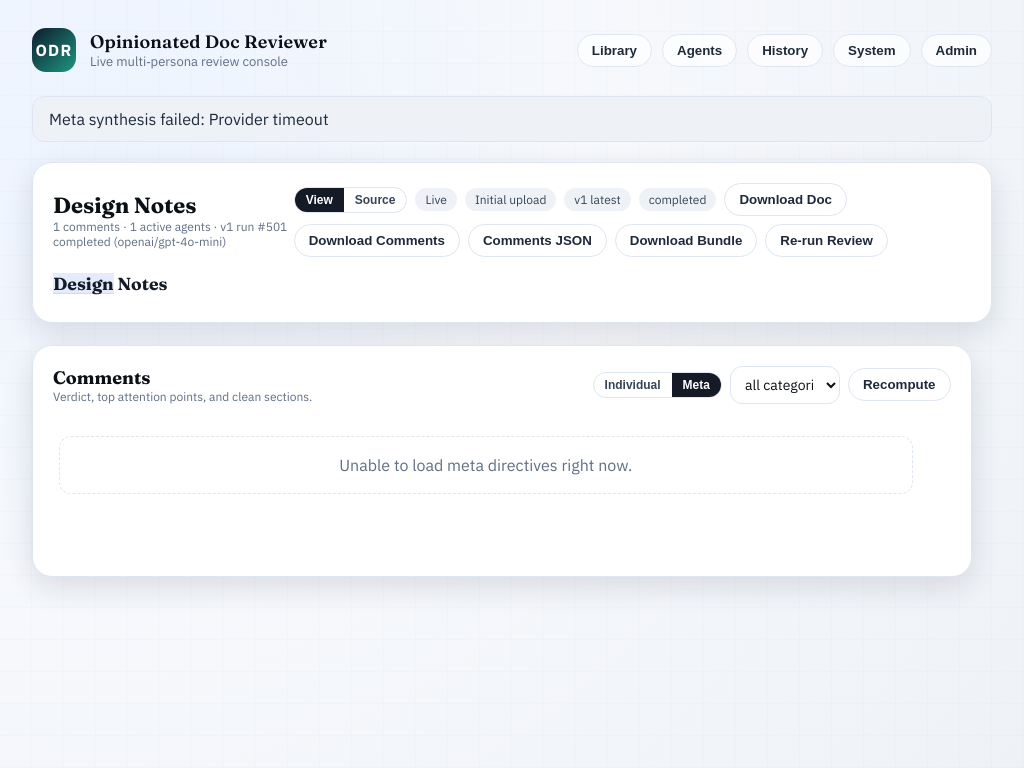
Test case: page controls › recompute retries meta synthesis from failed state and keeps meta mode active
Expected: the text "Unable to load meta directives right now." is shown, [59,436,912,494]
Step 1. Click the button "Recompute" → (899, 385), box [848,368,951,401]
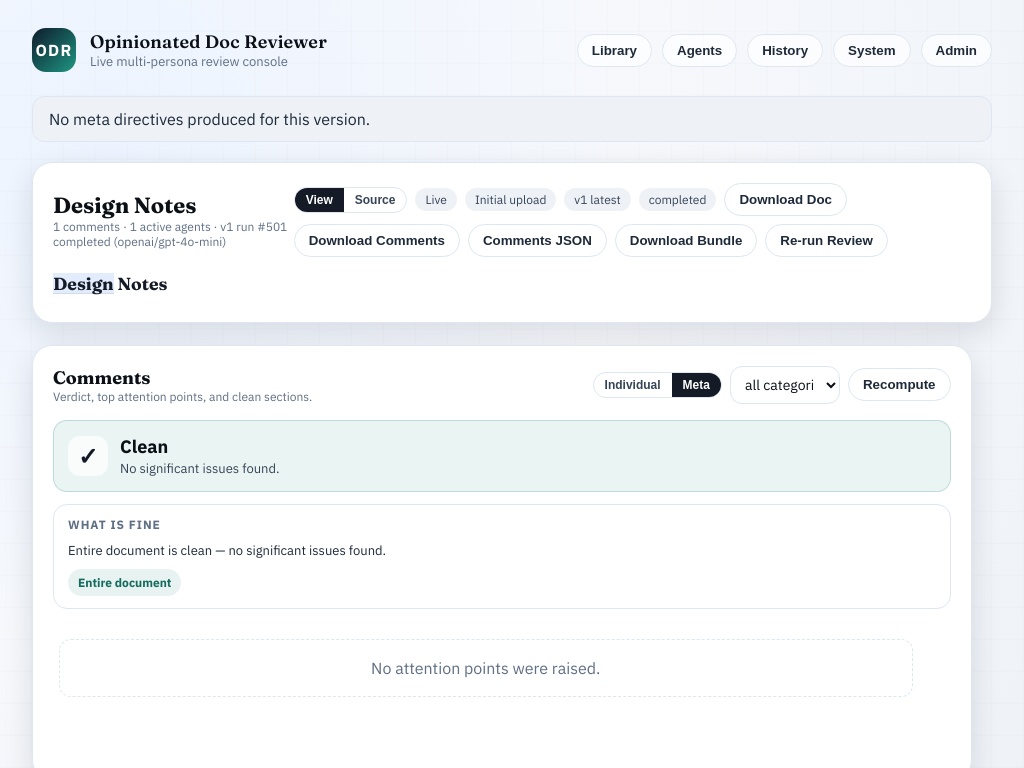
Now the text "No meta directives produced for this version." is shown, box [32,96,992,142]
Now the text "Clean" is shown, box [120,435,168,458]
Now the text "No significant issues found." is shown, box [120,460,280,477]
